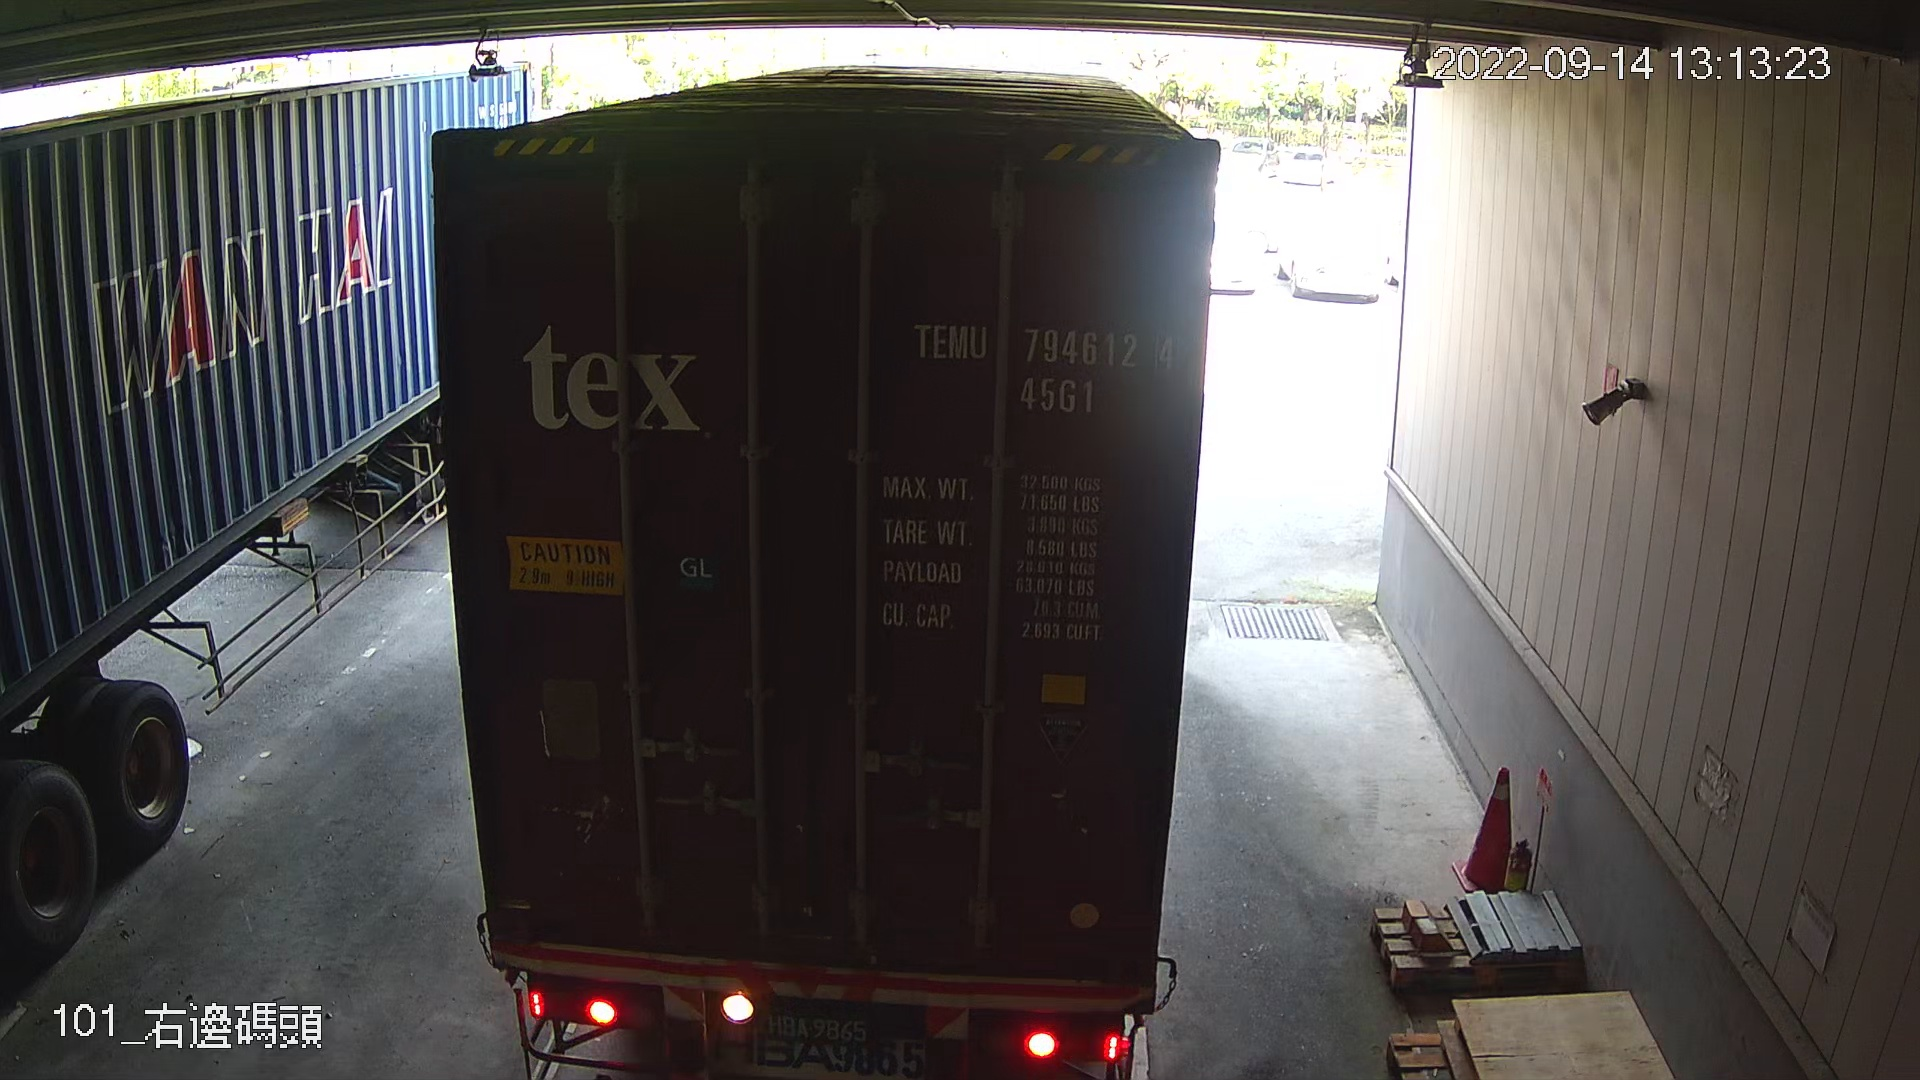container: (898, 307, 1184, 422)
